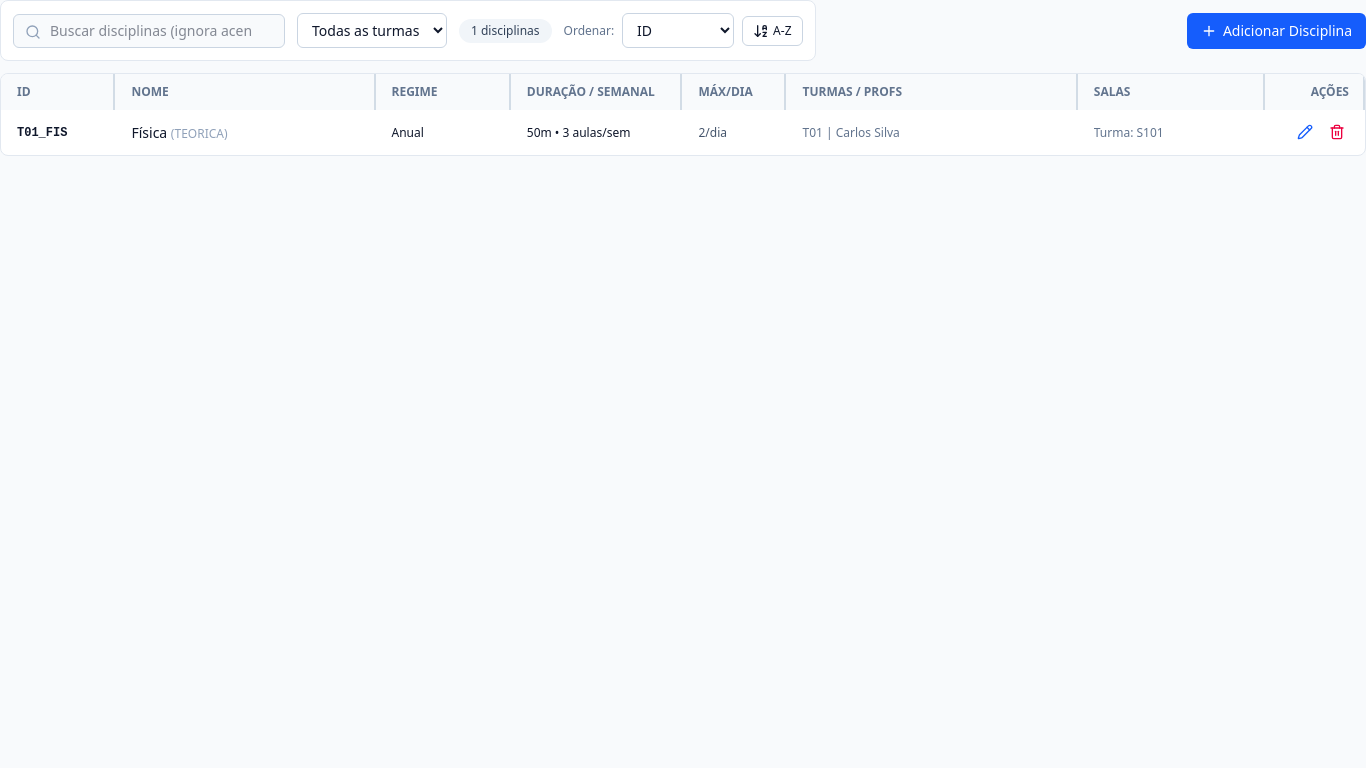
it: DisciplinasTab › opens Professores & Turmas collapsed on edit and expands on demand
Click the button named "Editar Física" at point(1305, 132), box [1293,120,1317,144]
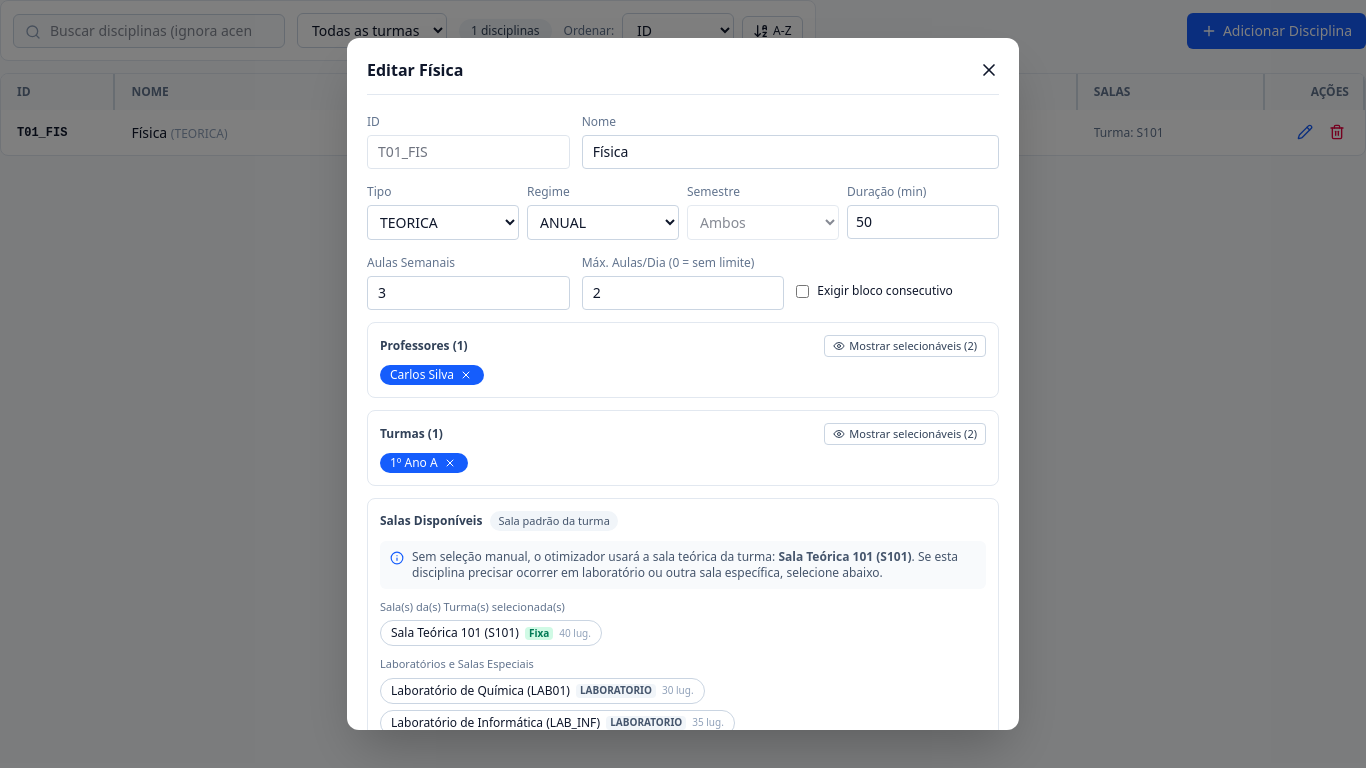
expect the heading "Editar Física" is shown: met, box [367,58,463,82]
expect the button "Mostrar selecionáveis (2)" in the row of "Professores" is shown: met
expect the button named "Remover Carlos Silva" is shown: met, box [458,367,474,383]
Note: Expand Professores and select Ana Souza
Click the button "Mostrar selecionáveis (2)" in the row of "Professores" at point(905, 346), box [824,335,986,357]
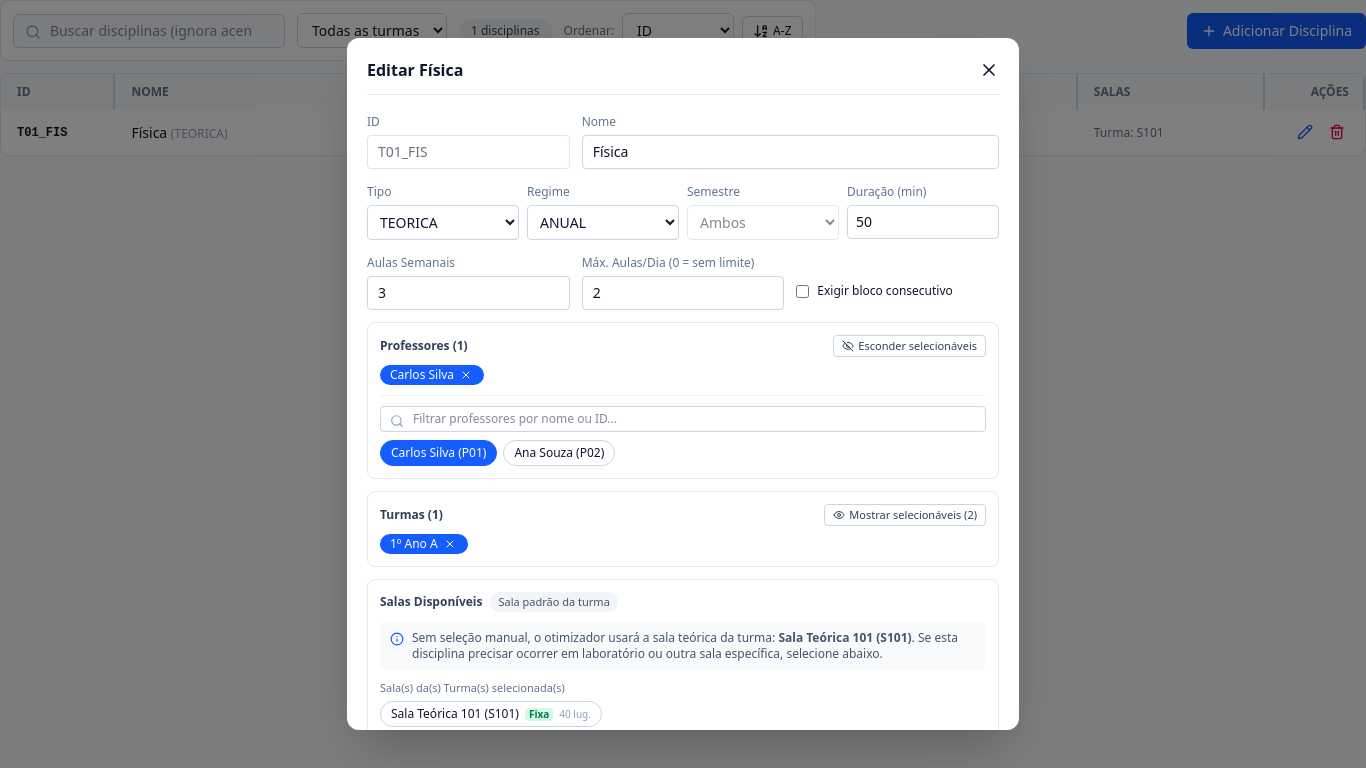
Click the button "Ana Souza (P02)" at point(559, 453), box [503,440,615,466]
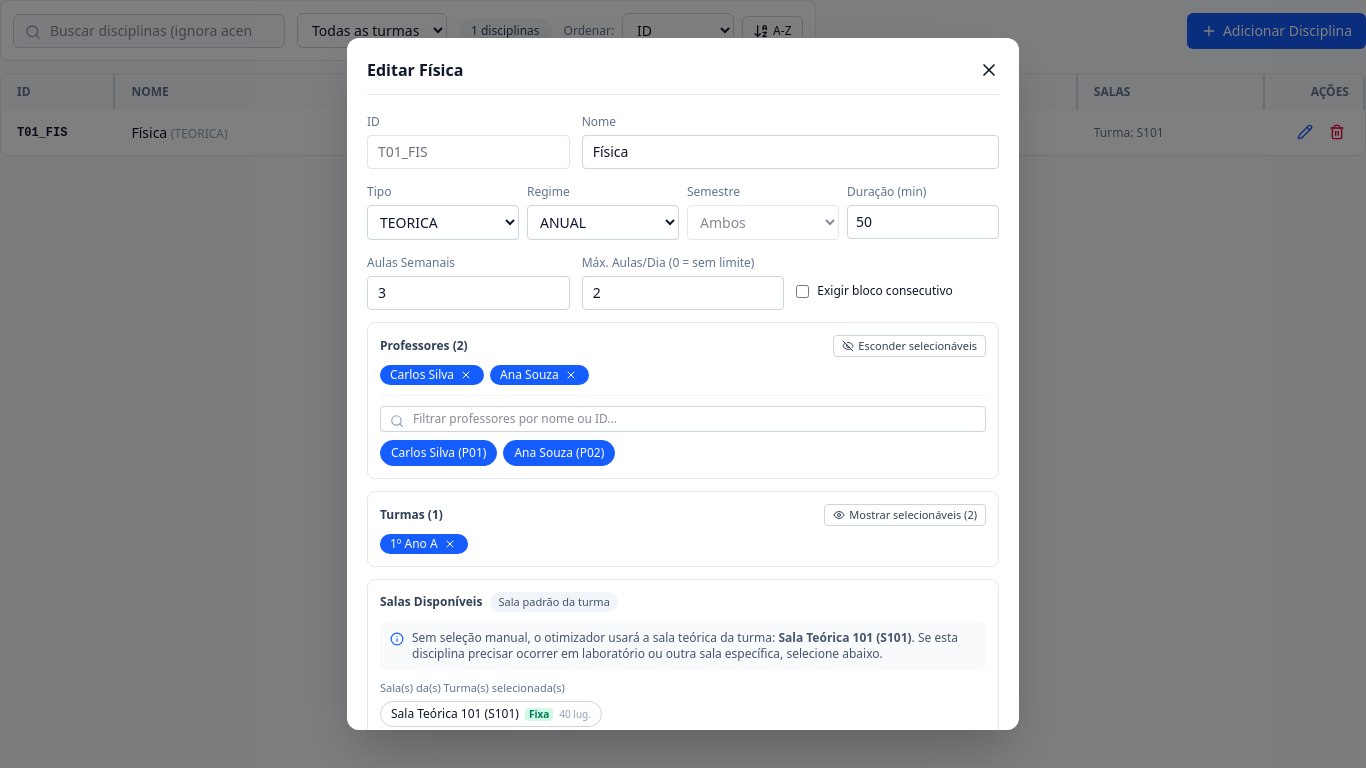
expect the text "Professores (2)" is shown: met, box [380,338,468,354]
